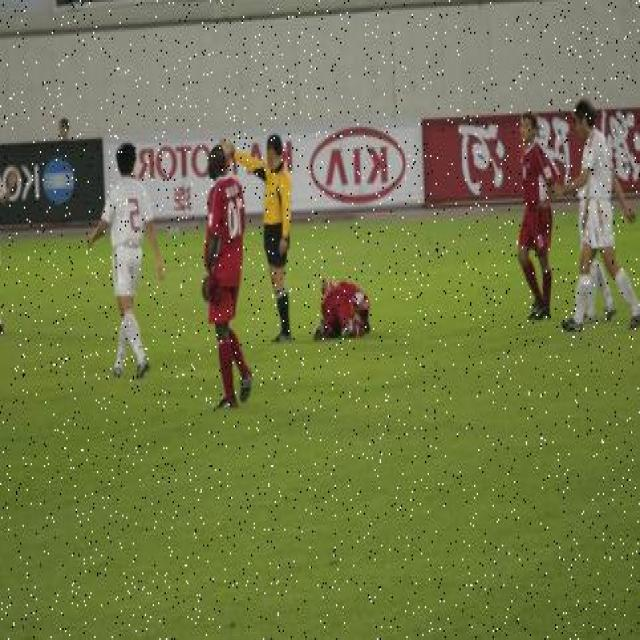fall: (304, 270, 381, 342)
